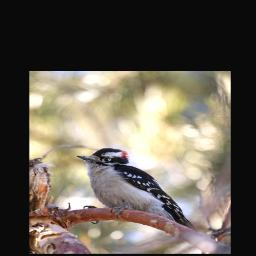Woodpecker: (76, 148, 195, 232)
